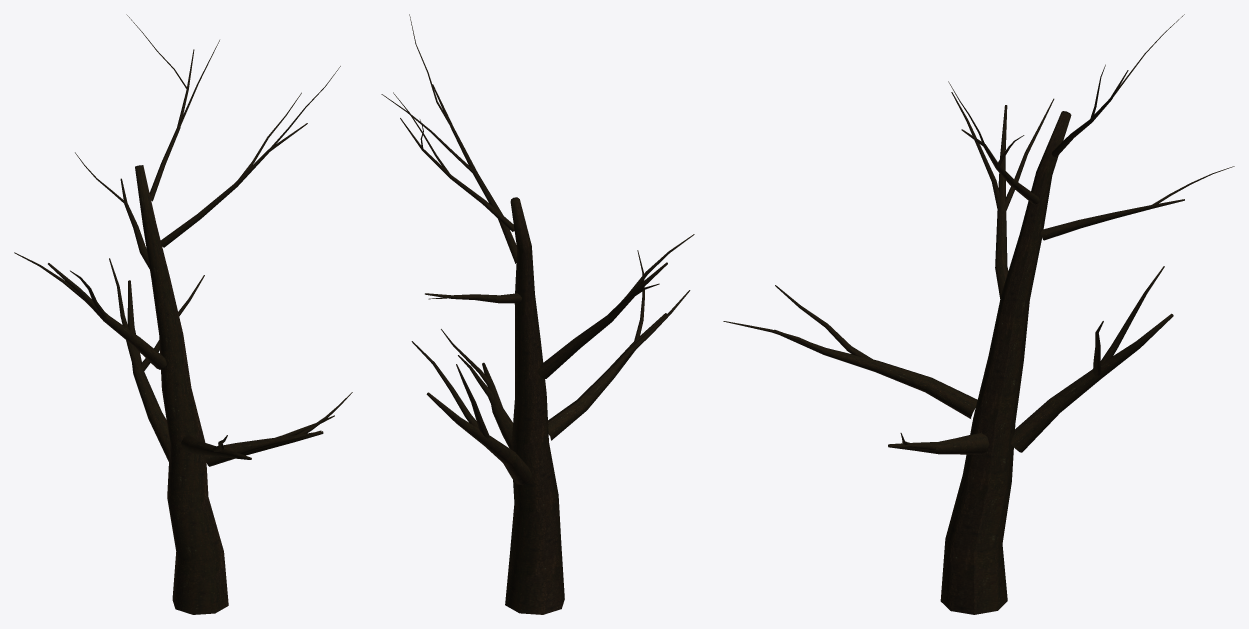
The model's file is dead_oak.glb.
3 views of the same model, side by side, from view 1: azimuth 30°, elevation 25°; view 2: azimuth 150°, elevation 25°; view 3: azimuth 270°, elevation 25° (orthographic). The views are drawn at different scales.
Parts seen in each view (by area): view 1: dead_oak_trunk; view 2: dead_oak_trunk; view 3: dead_oak_trunk.
Boxes of the visible parts, x1,y1,x2,y2 form: dead_oak_trunk: (14,14,352,614); dead_oak_trunk: (381,14,694,614); dead_oak_trunk: (723,14,1234,614).
Size of the model in its own units: 3.57 by 6.28 by 4.87.
1 material, 1 textured.
